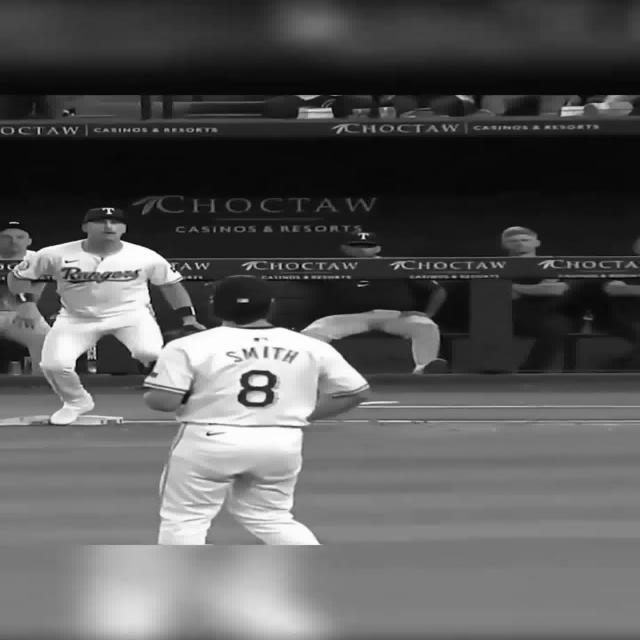base: (1, 415, 51, 426), (71, 415, 124, 425)
shoe: (49, 392, 96, 425)
